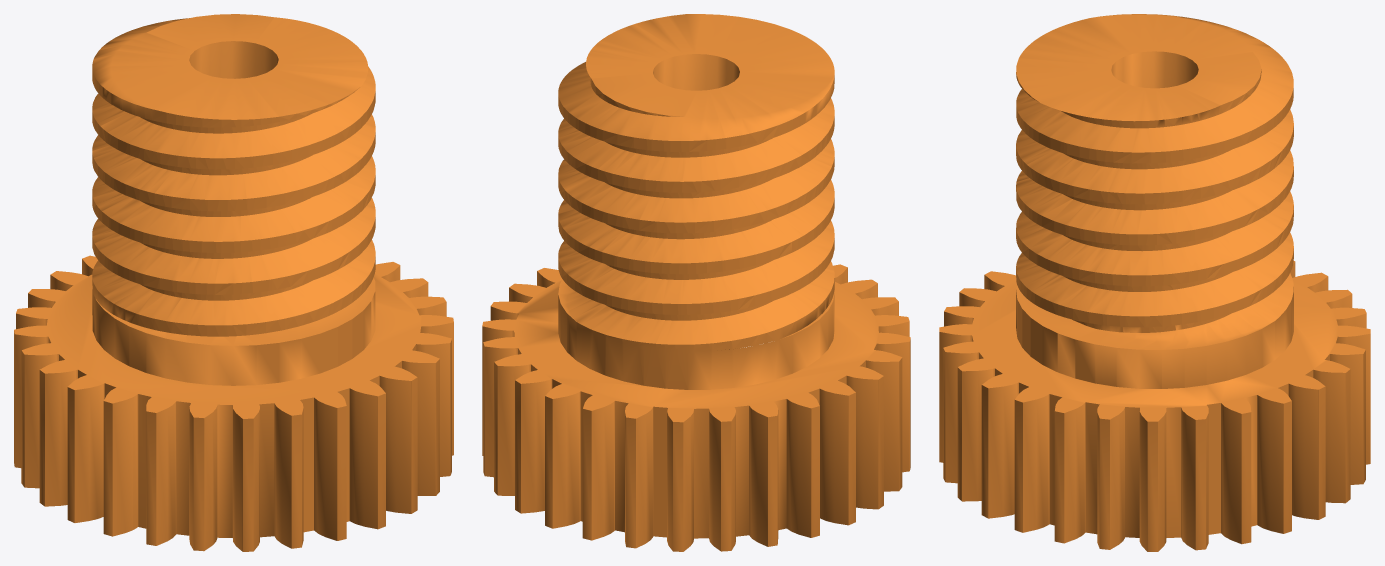
The model's file is 04_pinon_28t_sinfin_v31.glb.
3 renders of one model, left to right at view 1: azimuth 30°, elevation 25°; view 2: azimuth 150°, elevation 25°; view 3: azimuth 270°, elevation 25°, orthographic. The views are drawn at different scales.
Visible parts, largest first — view 1: 04_Pinon_28T_sinfin_V31; view 2: 04_Pinon_28T_sinfin_V31; view 3: 04_Pinon_28T_sinfin_V31.
Part boxes in pixels (box(x1,y1,x2,y2)): 04_Pinon_28T_sinfin_V31: box(14, 14, 453, 551); 04_Pinon_28T_sinfin_V31: box(482, 14, 910, 551); 04_Pinon_28T_sinfin_V31: box(939, 14, 1370, 551).
Bounding box in the file's own units: 0.03 × 0.03 × 0.03.
